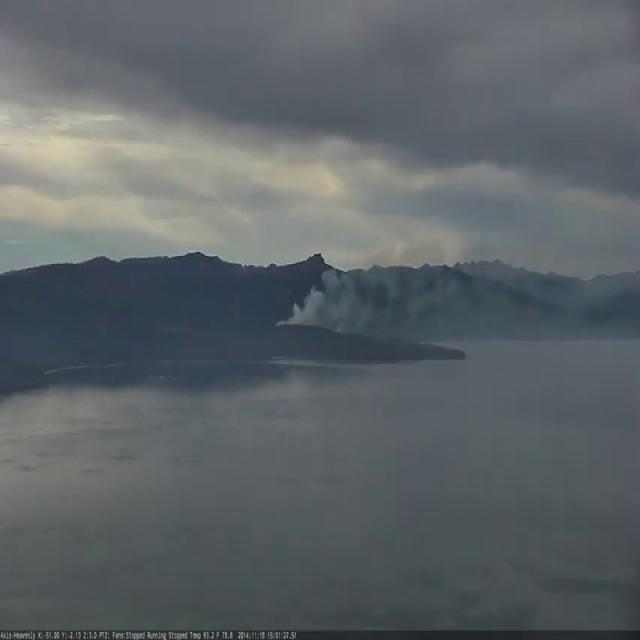smoke: (273, 232, 640, 348)
